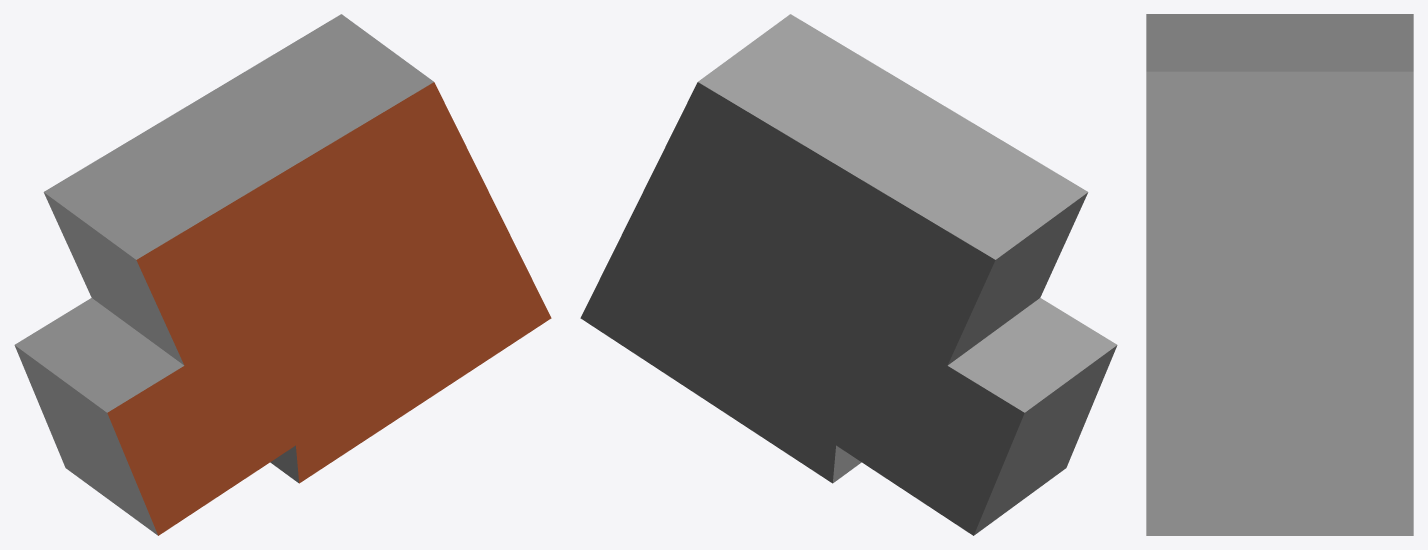
File: construction_5266_assumed_A_Casa_h6m.obj
The picture shows the model from 3 angles, left to right: view 1: azimuth 30°, elevation 25°; view 2: azimuth 150°, elevation 25°; view 3: azimuth 270°, elevation 25°; orthographic projection. The views are drawn at different scales.
Parts seen in each view (by area): view 1: construction_5266_assumed_A_Casa; view 2: construction_5266_assumed_A_Casa; view 3: construction_5266_assumed_A_Casa.
Part boxes in pixels (x1,y1,x2,y2): construction_5266_assumed_A_Casa: (14, 14, 551, 535); construction_5266_assumed_A_Casa: (580, 14, 1117, 535); construction_5266_assumed_A_Casa: (1146, 14, 1413, 535).
Size of the model in its own units: 16.58 by 13.79 by 6.
